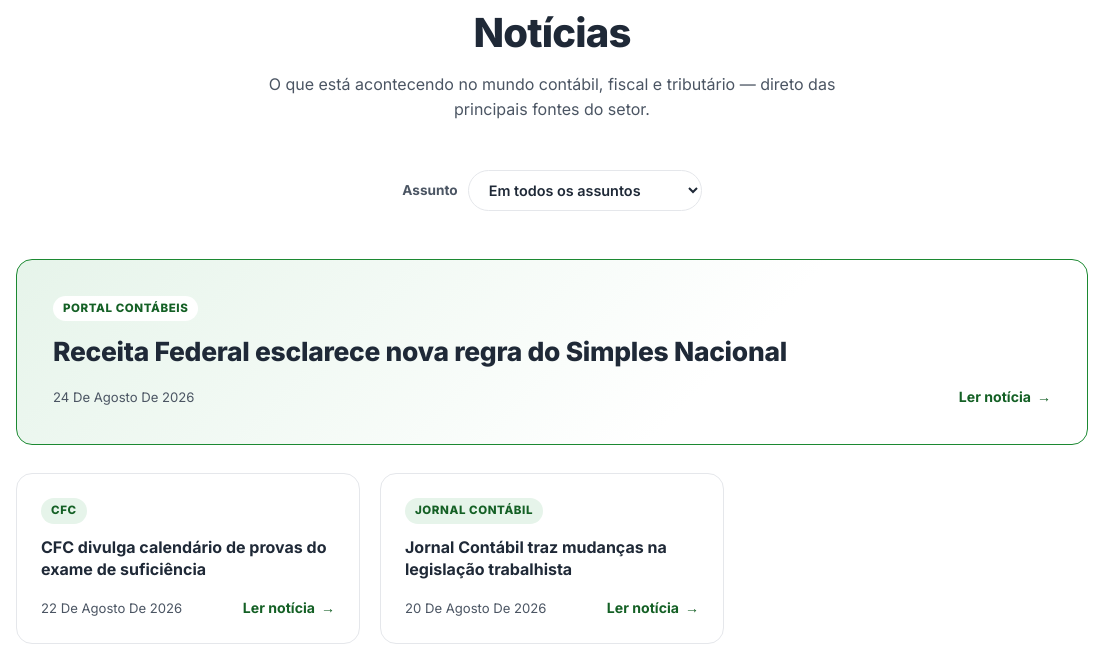
Test: Noticias › filters the list by subject when a category is selected
Check: the heading "Receita Federal esclarece nova regra do Simples Nacional" is shown, box [53,335,787,367]
Select "Simples Nacional" in the dropdown labelled "Assunto" at [585, 190], box [468,170,702,211]
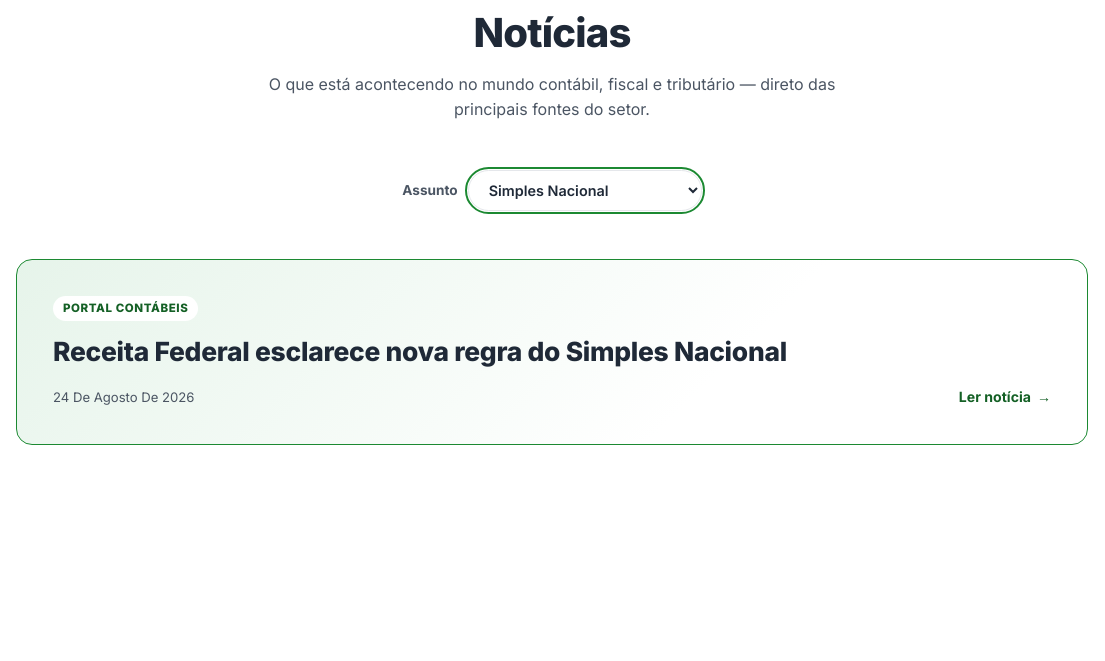
Check: the heading "Receita Federal esclarece nova regra do Simples Nacional" is shown, box [53,335,787,367]
Check: the heading "CFC divulga calendário de provas do exame de suficiência" is gone
Check: the heading "Jornal Contábil traz mudanças na legislação trabalhista" is gone
